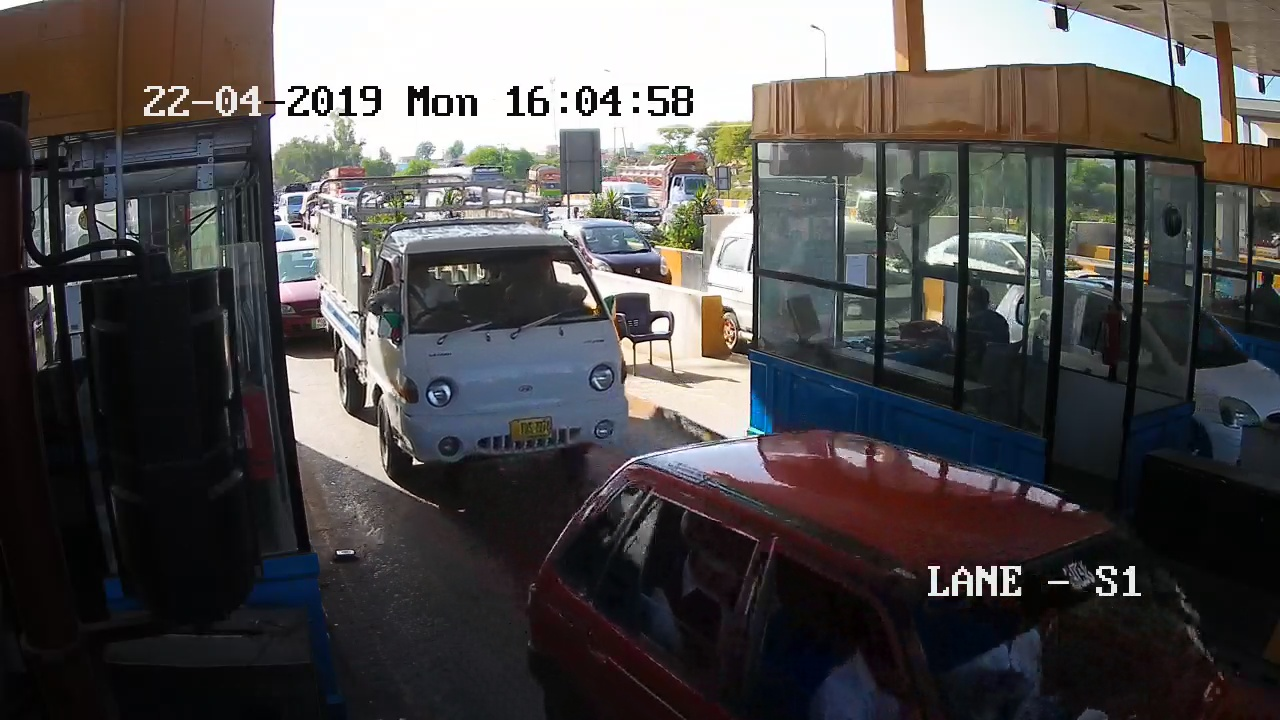Number Plate (Car): (507, 417, 557, 441)
